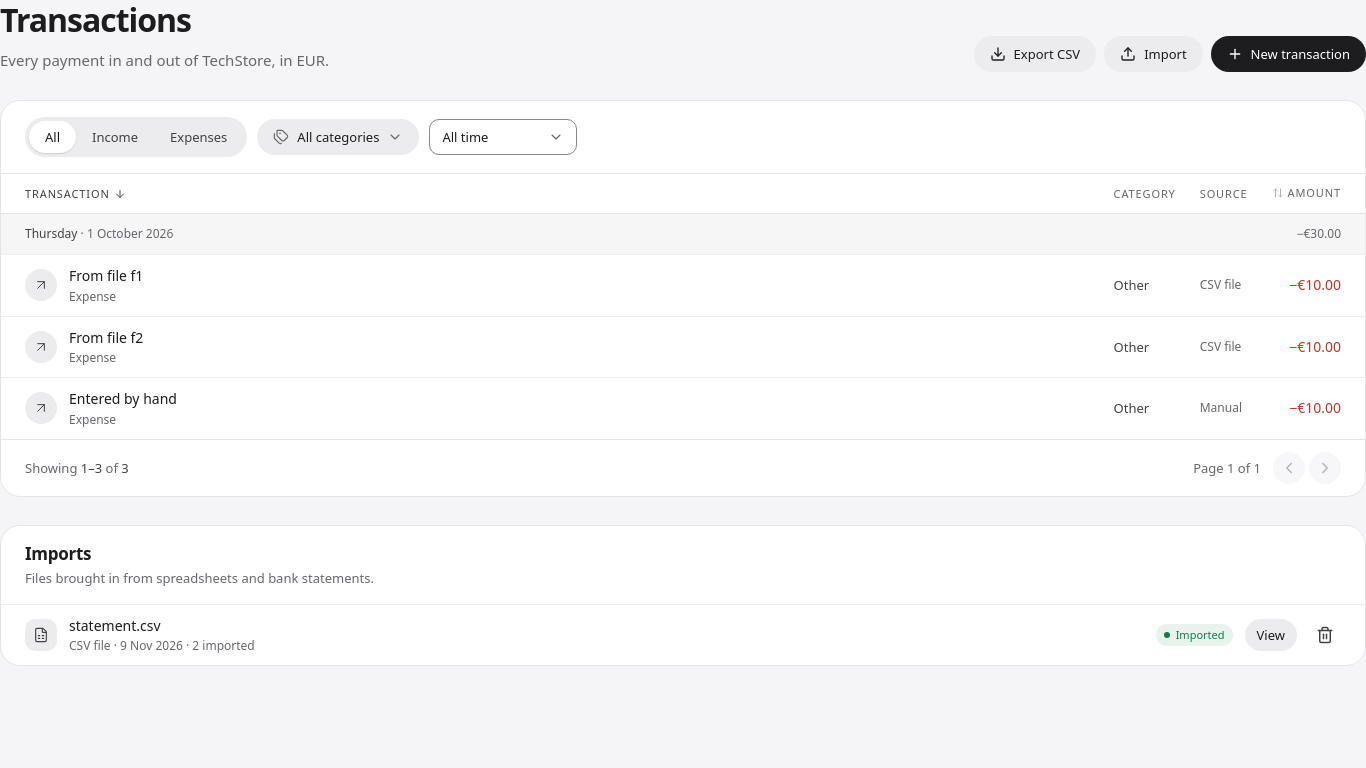
importing a file › removes a finished import with its transactions, after confirmation
The image size is (1366, 768).
Step 1. Click the button named "Remove statement.csv" → coordinates (1325, 635), box [1309,619,1341,651]
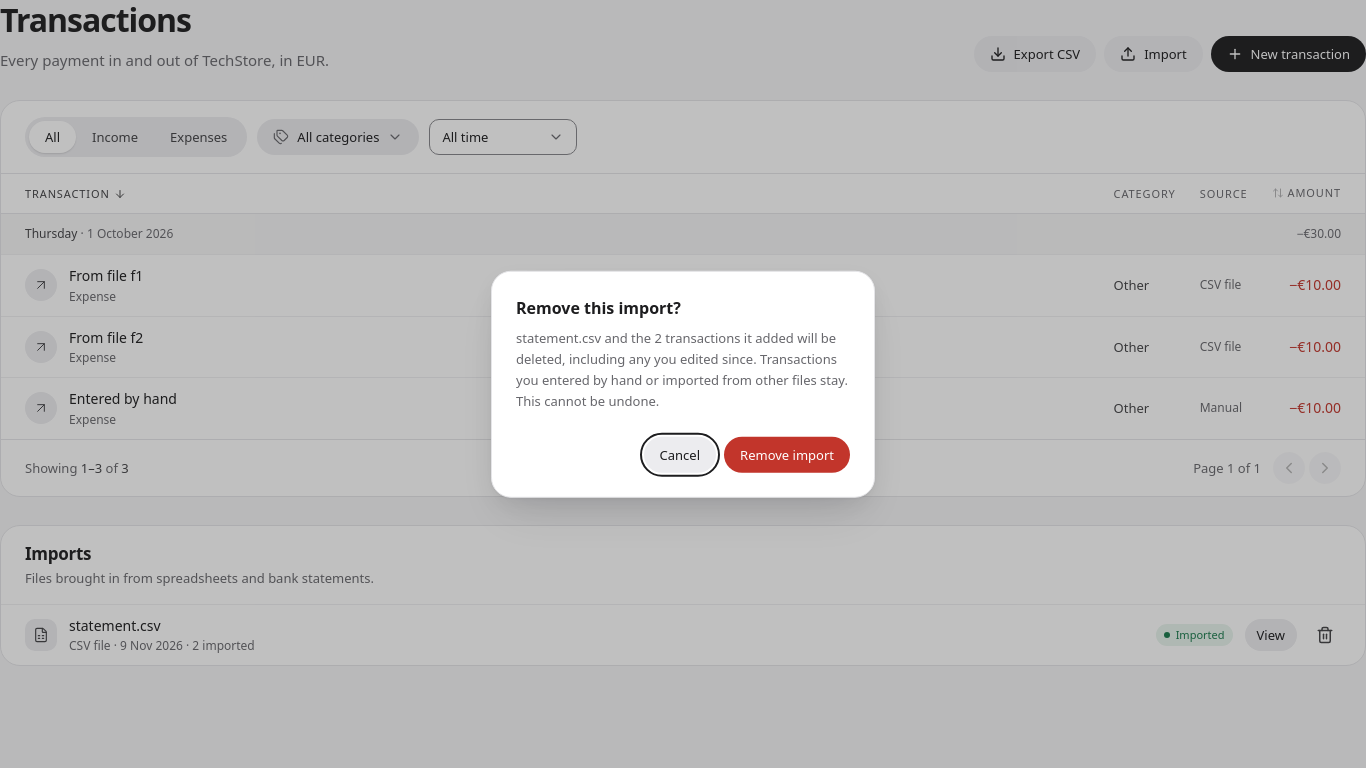
Check: the dialog "Remove this import?" shows "statement.csv and the 2 transactions it added will be deleted", box [516,329,848,410]
Step 2. Click the button "Cancel" → coordinates (680, 454), box [644,436,716,472]
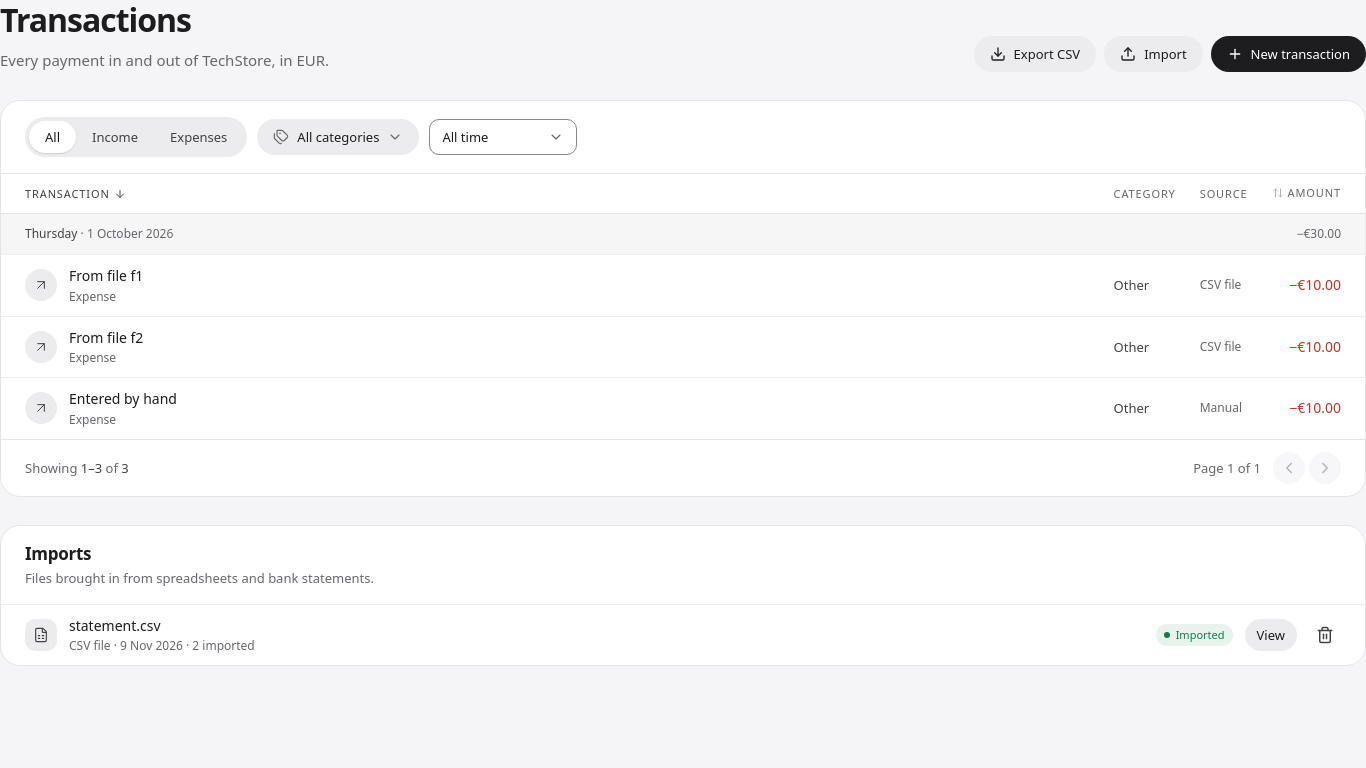
Step 3. Click the button named "Remove statement.csv" → coordinates (1325, 635), box [1309,619,1341,651]
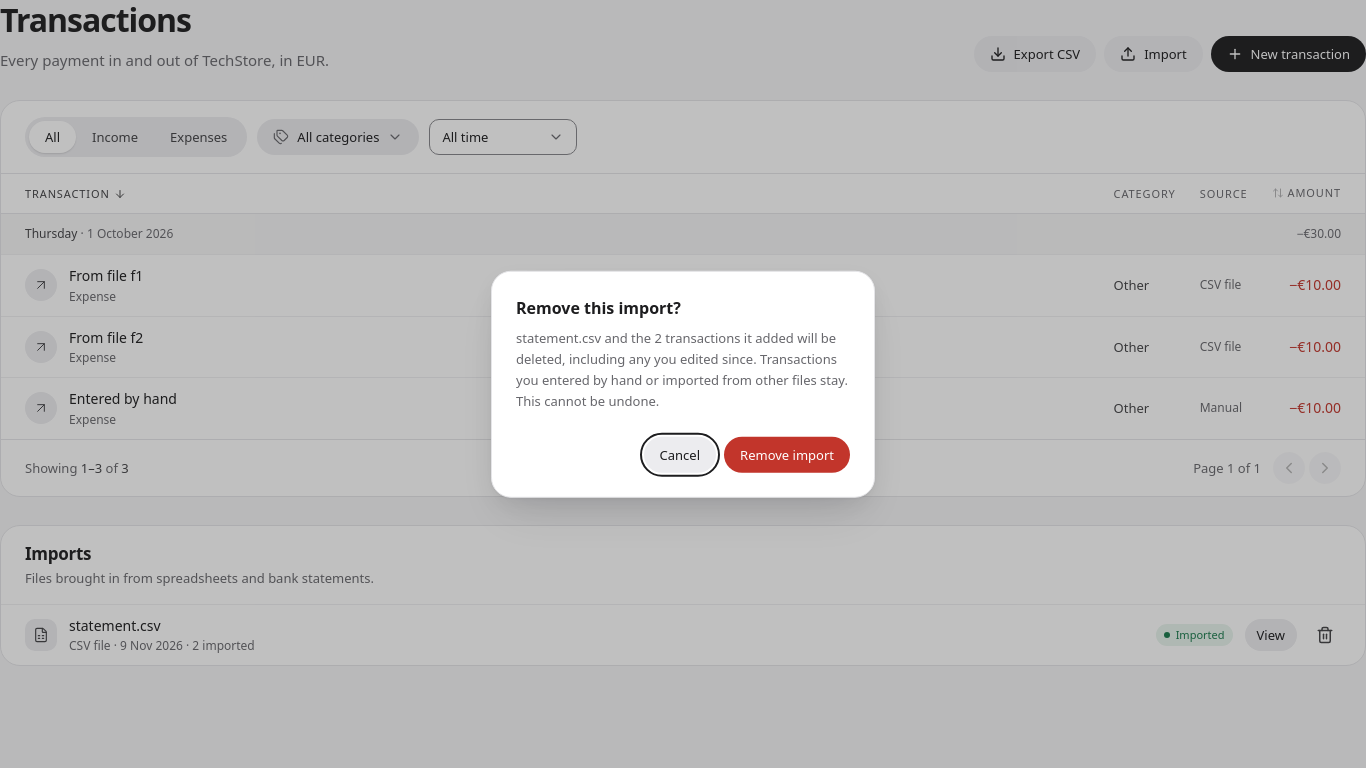
Step 4. Click the button "Remove import" → coordinates (787, 454), box [724,436,850,472]
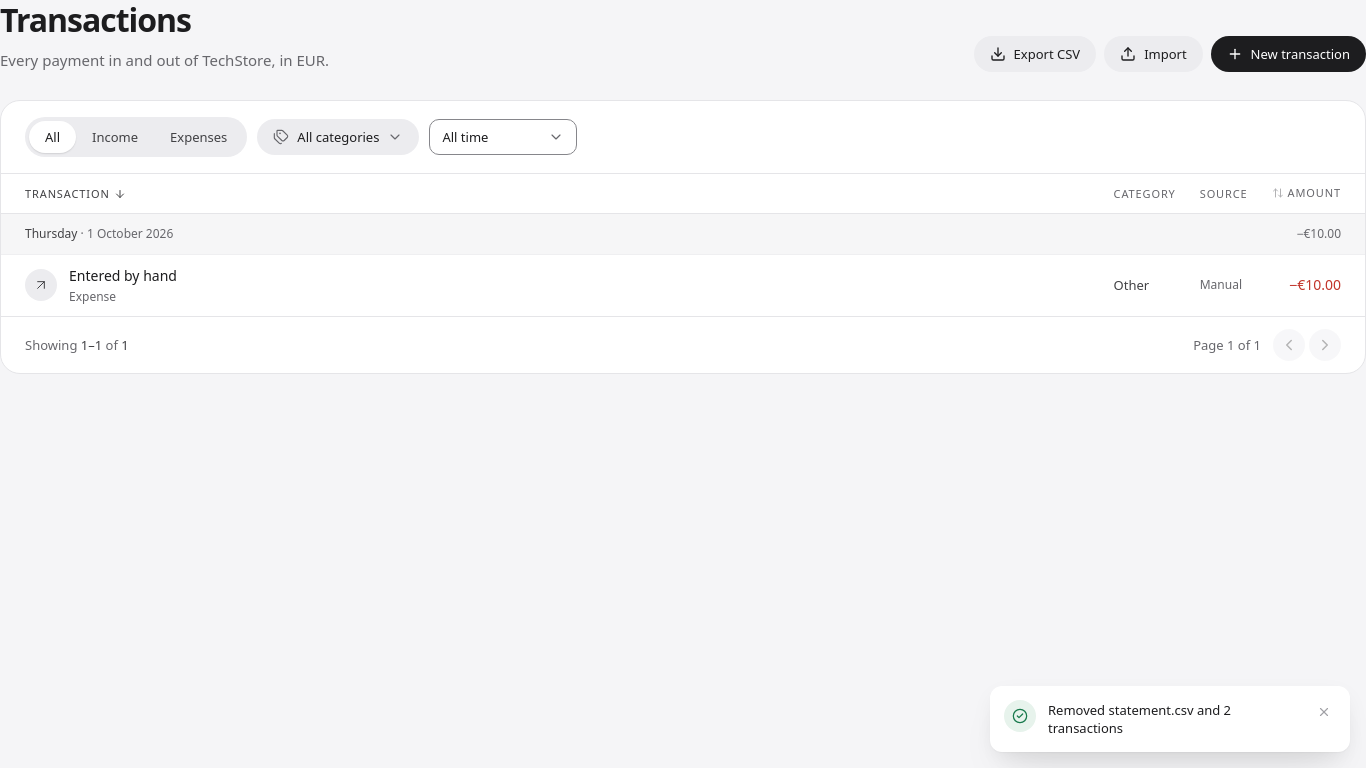
Check: the text "Entered by hand" is shown, box [69,267,177,284]
Check: the text "From file f1" is gone
Check: the heading "Imports" is gone
